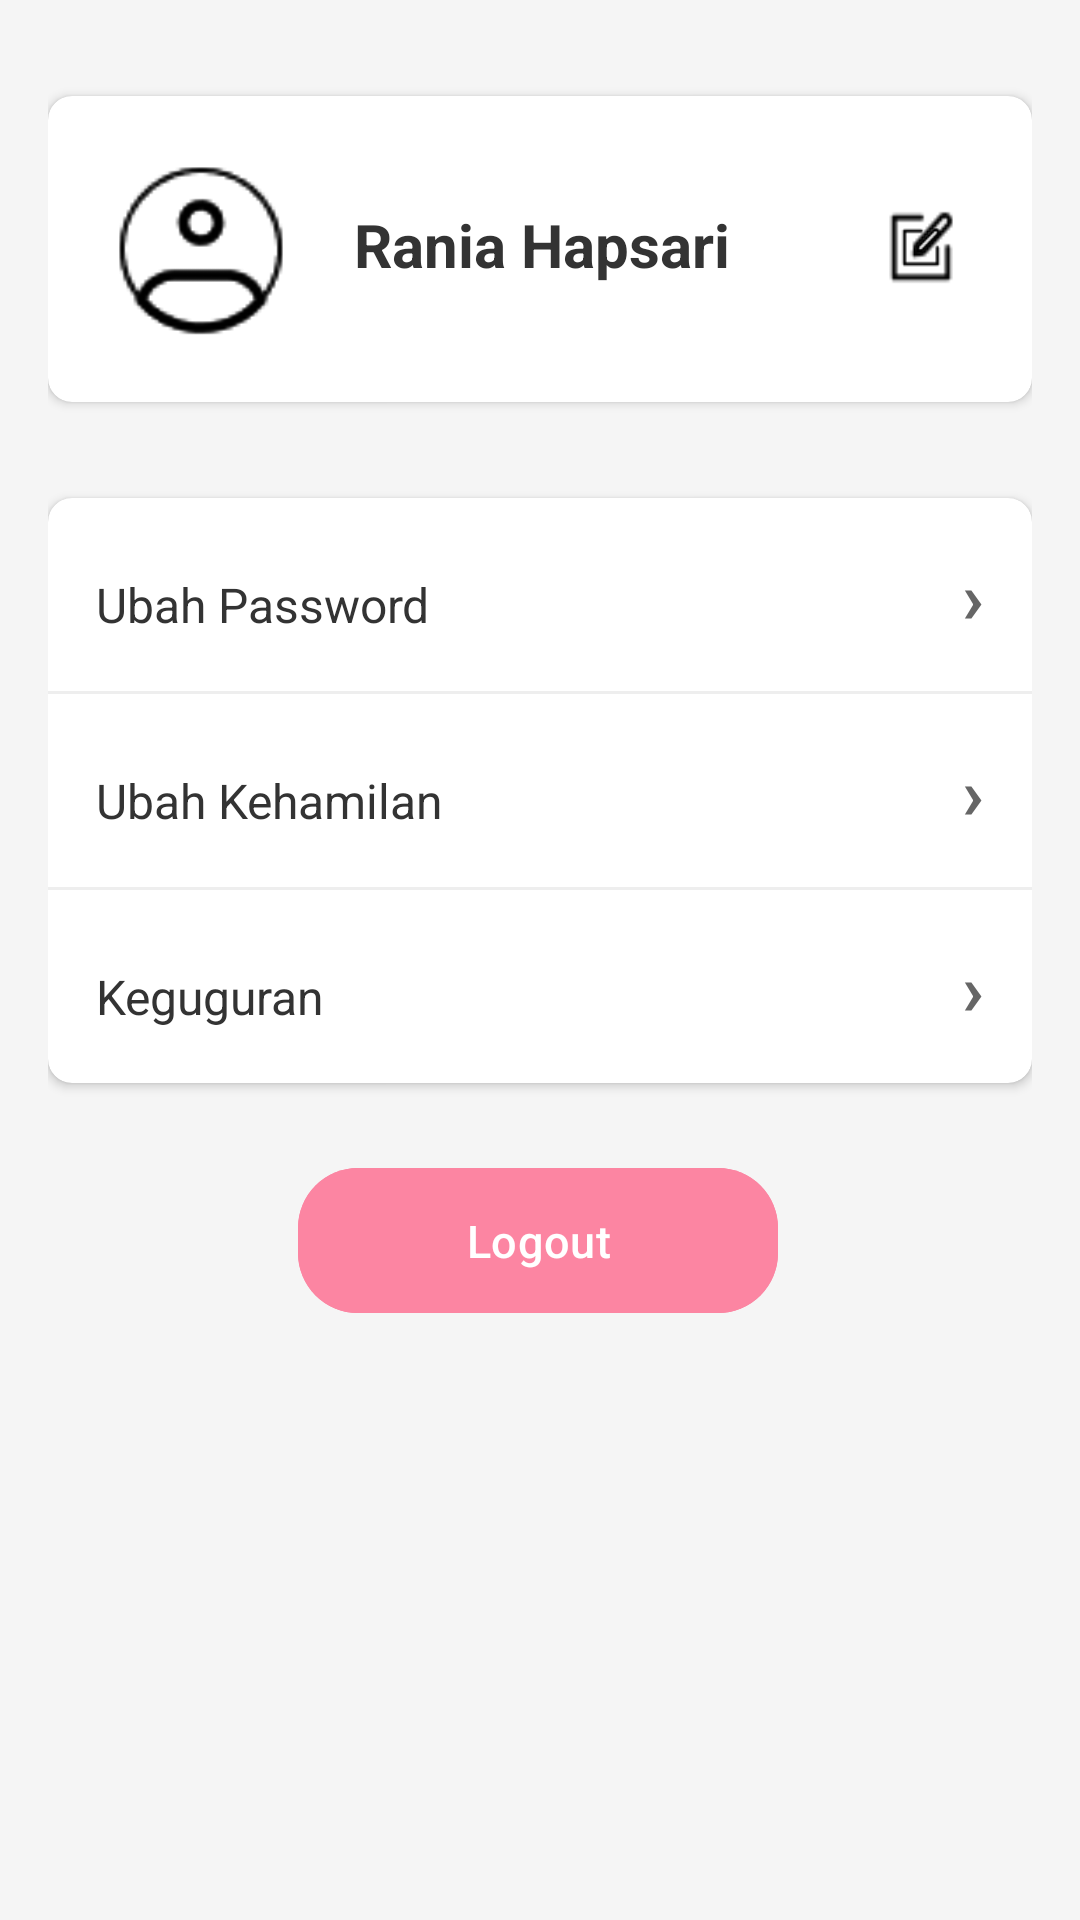

Where icons sit on this 1080 × 1920 app screen, as (x1, y1, x2, y2):
edit: (889, 212, 953, 283)
profilpic: (119, 167, 283, 335)
